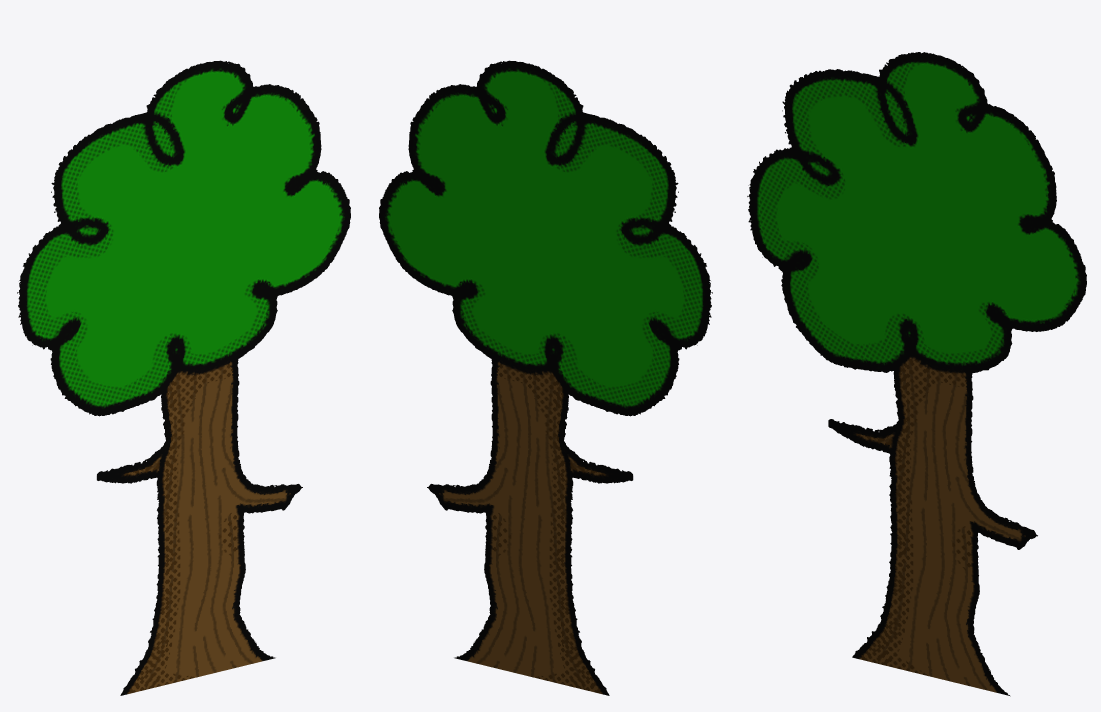
File: Tree3.fbx
3 renders of one model, left to right at view 1: azimuth 30°, elevation 25°; view 2: azimuth 150°, elevation 25°; view 3: azimuth 330°, elevation 25°, orthographic.
Visible parts, largest first — view 1: Tree3; view 2: Tree3; view 3: Tree3.
Part boxes in pixels (<box>): Tree3: <box>17,60,350,695</box>; Tree3: <box>379,60,712,695</box>; Tree3: <box>747,52,1086,696</box>.
Size of the model in its own units: 212 by 376 by 2.84e-05.
